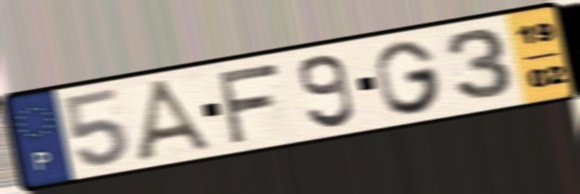3: (442, 27, 517, 102)
5: (59, 85, 134, 170)
9: (296, 53, 357, 129)
A: (132, 75, 222, 163)
F: (212, 59, 283, 147)
G: (372, 38, 446, 117)
